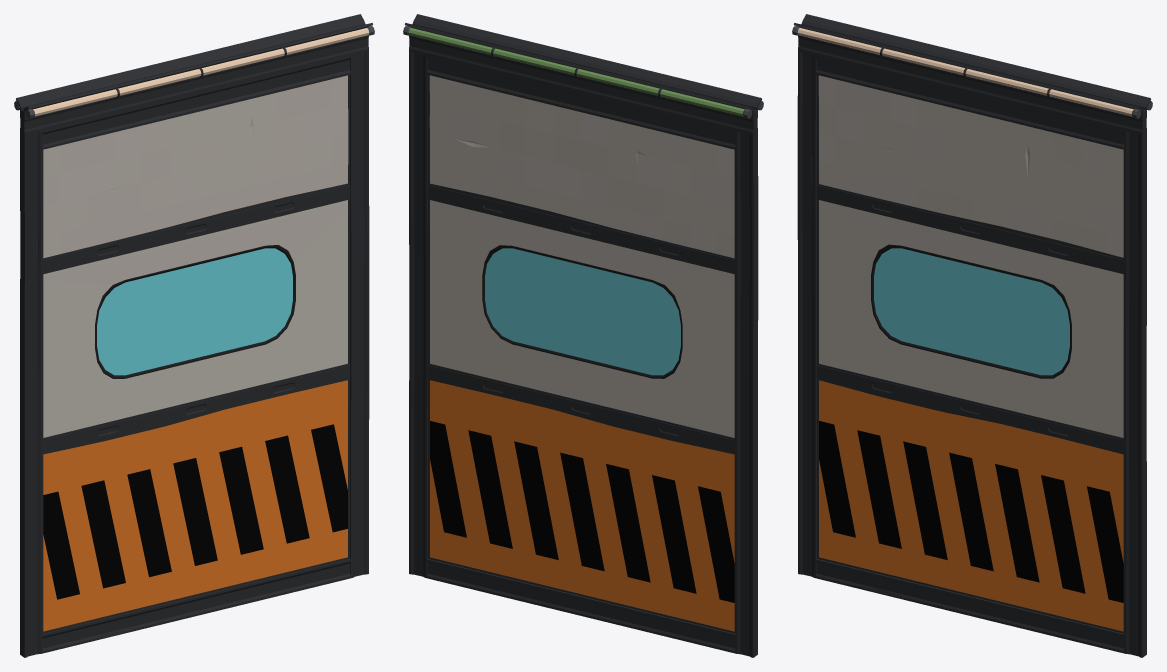
File: SM_Wall_03.gltf
3 renders of one model, left to right at view 1: azimuth 30°, elevation 25°; view 2: azimuth 150°, elevation 25°; view 3: azimuth 330°, elevation 25°, orthographic.
Visible parts, largest first — view 1: SM_Wall_03; view 2: SM_Wall_03; view 3: SM_Wall_03.
Boxes of the visible parts, x1=… form: SM_Wall_03: x1=14, y1=14, x2=374, y2=657; SM_Wall_03: x1=403, y1=14, x2=763, y2=657; SM_Wall_03: x1=792, y1=14, x2=1152, y2=657.
Size of the model in its own units: 2 by 3.07 by 0.166.
